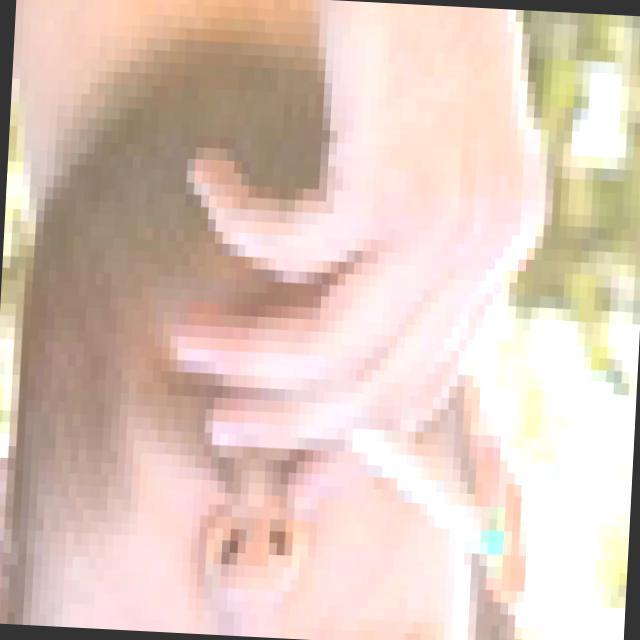smoke: (326, 406, 524, 579)
